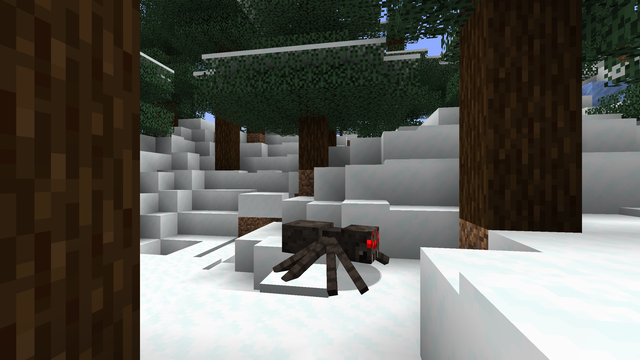araignees: (286, 214, 379, 291)
